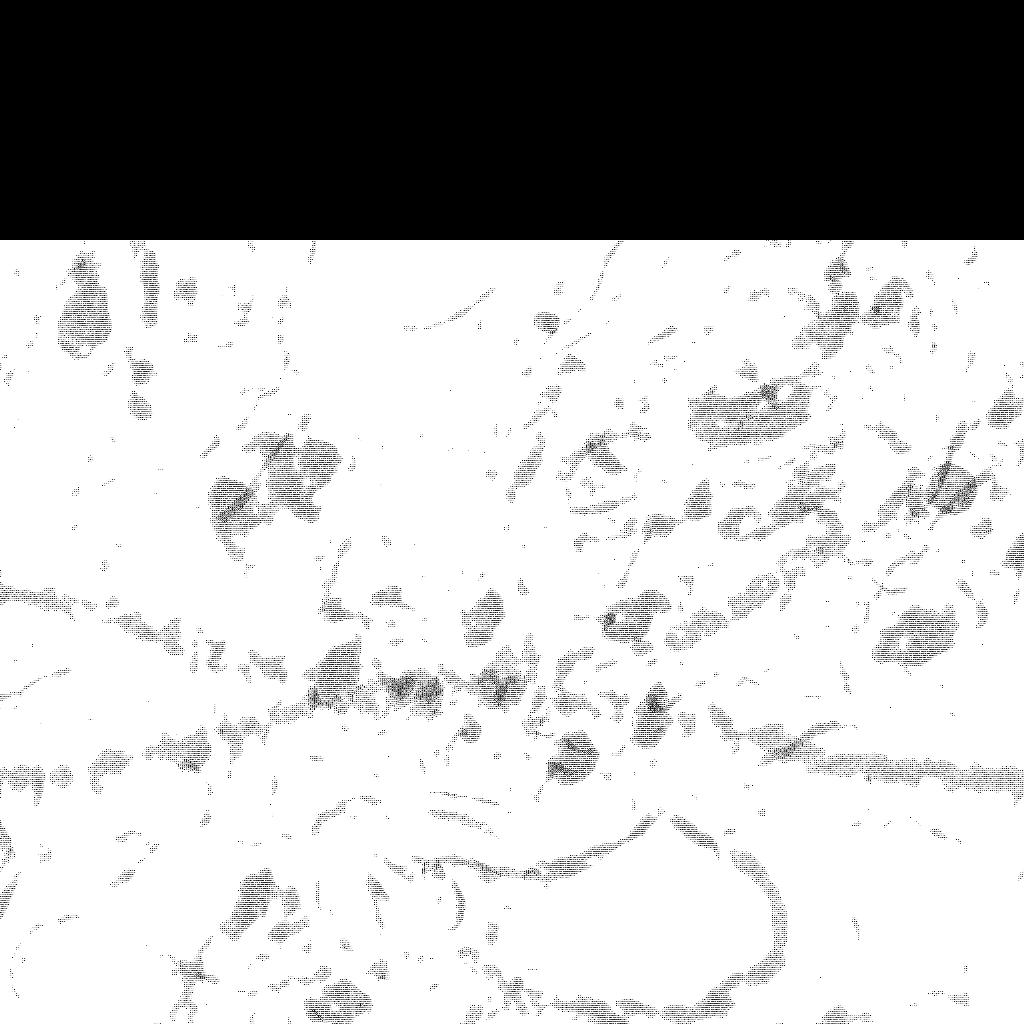axone: (233, 419, 355, 529), (683, 371, 820, 453), (291, 631, 387, 725), (777, 280, 868, 368), (188, 473, 268, 566), (870, 594, 963, 673), (465, 629, 544, 716), (208, 860, 281, 952), (369, 649, 450, 730), (592, 578, 674, 658), (54, 280, 115, 362), (617, 674, 681, 751), (919, 458, 988, 525), (302, 969, 376, 1024), (550, 724, 602, 791)
